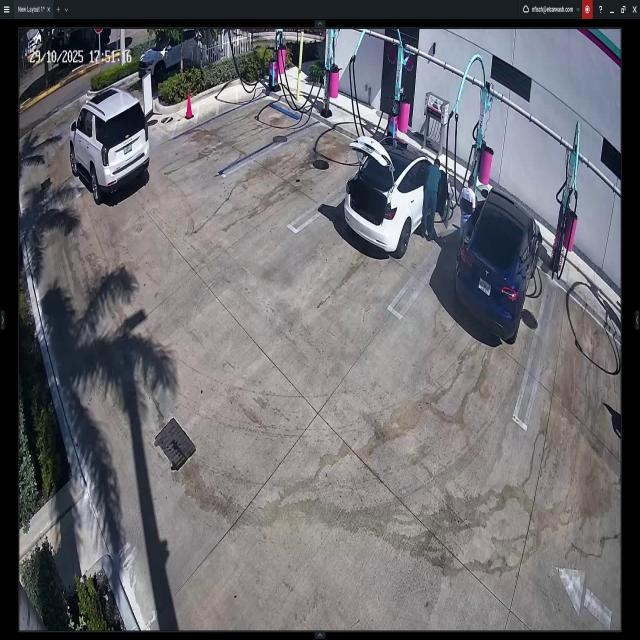Car: (453, 187, 542, 343), (342, 137, 450, 256), (68, 95, 148, 196)
